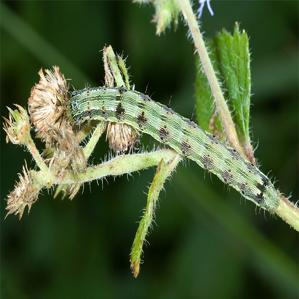Cotton bollworm: (48, 61, 286, 233)
